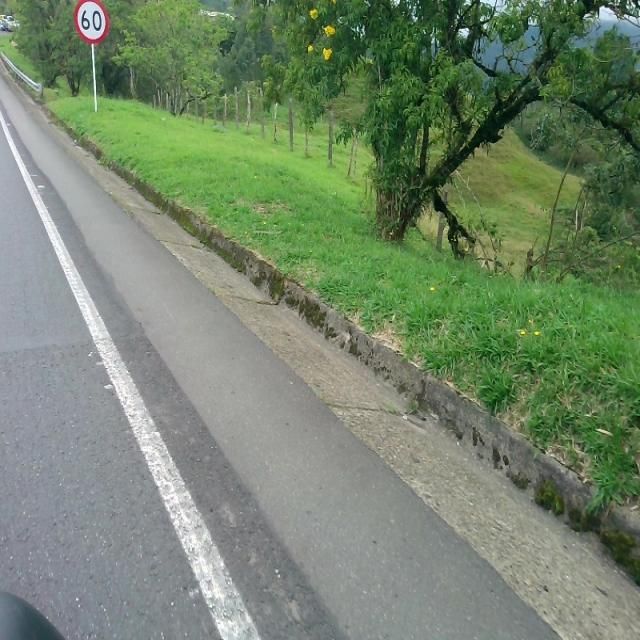DITCH: (1, 53, 638, 638), (1, 105, 638, 638)
